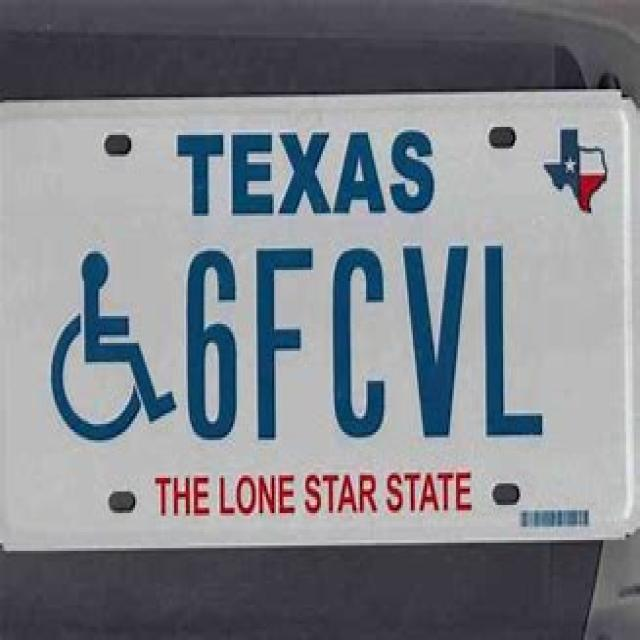car-handicap-placard: (50, 248, 181, 447)
